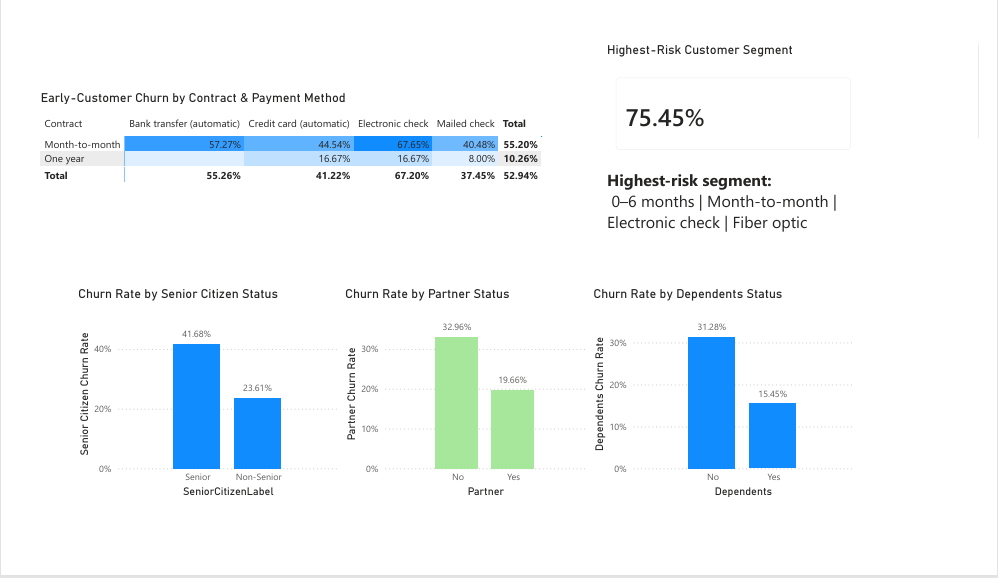

The dashboard page shown, as its layout file describes it:
{"tool":"powerbi","page":{"name":"Page 2","canvas":[1280,720],"ordinal":1},"visuals":[{"type":"pivotTable","title":"Early-Customer Churn by Contract & Payment Method","fields":{"Rows":["telco_churn_analysis_ready.Contract"],"Columns":["telco_churn_analysis_ready.PaymentMethod"],"Values":["telco_churn_analysis_ready.Segment Churn Rate"]},"box":[23.5,97.4,682,146.1],"z":0},{"type":"clusteredColumnChart","title":"Churn Rate by Senior Citizen Status","fields":{"Y":["telco_churn_analysis_ready.Senior Citizen Churn Rate"],"Category":["telco_churn_analysis_ready.SeniorCitizenLabel"]},"box":[73.9,359.5,356.1,285.6],"z":1000},{"type":"clusteredColumnChart","title":"Churn Rate by Partner Status","fields":{"Category":["telco_churn_analysis_ready.Partner"],"Y":["telco_churn_analysis_ready.Partner Churn Rate"]},"box":[430,359.5,331,286],"z":2000},{"type":"clusteredColumnChart","title":"Churn Rate by Dependents Status","fields":{"Category":["telco_churn_analysis_ready.Dependents"],"Y":["telco_churn_analysis_ready.Dependents Churn Rate"]},"box":[760.9,359.5,356.1,285.6],"z":3000},{"type":"cardVisual","title":"Highest-Risk Customer Segment","fields":{"Data":["telco_churn_analysis_ready.Segment Churn Rate"]},"box":[779.4,33.6,347.7,162.9],"z":3001},{"type":"textbox","box":[779.4,196.5,347.7,94.1],"z":3002}]}

Visuals, with their boxes in screenshot pixels (x1, y1, x2, y2), scaled from the page's 1280x720 canvas onto the 998x578 screenshot:
"Early-Customer Churn by Contract & Payment Method" pivotTable: select_region(18, 78, 550, 195)
"Churn Rate by Senior Citizen Status" clusteredColumnChart: select_region(58, 289, 335, 518)
"Churn Rate by Partner Status" clusteredColumnChart: select_region(335, 289, 593, 518)
"Churn Rate by Dependents Status" clusteredColumnChart: select_region(593, 289, 871, 518)
"Highest-Risk Customer Segment" cardVisual: select_region(608, 27, 879, 158)
textbox: select_region(608, 158, 879, 233)
